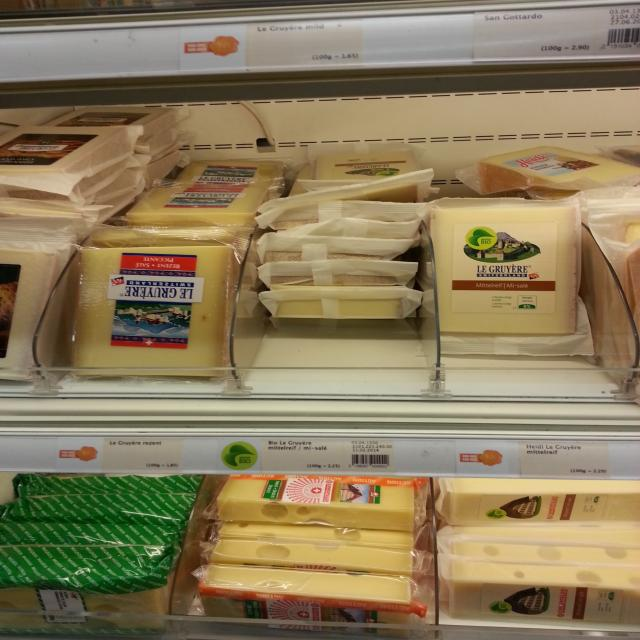Cheese: (64, 238, 230, 378), (432, 198, 582, 340), (194, 557, 430, 631), (0, 542, 175, 640), (438, 560, 640, 626), (208, 474, 421, 530), (438, 474, 640, 524), (469, 143, 640, 198), (0, 124, 139, 186), (116, 180, 268, 223), (300, 140, 422, 185), (168, 157, 290, 190)
